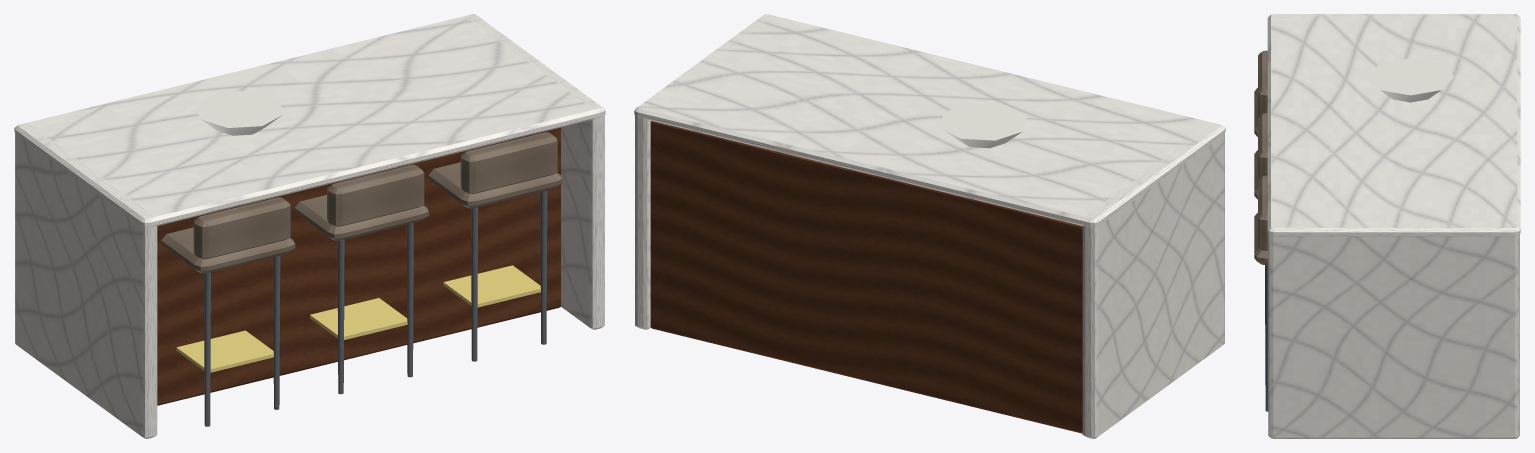
File: kitchen_island_bar.glb
3 views of the same model, side by side, from view 1: azimuth 30°, elevation 25°; view 2: azimuth 150°, elevation 25°; view 3: azimuth 270°, elevation 25° (orthographic). The views are drawn at different scales.
Visible parts, largest first — view 1: kitchen_island_bar_marbleCarrara, kitchen_island_bar_woodWalnut, kitchen_island_bar_fabricVelvet, kitchen_island_bar_metalBrass, kitchen_island_bar_metalBlack, kitchen_island_bar_ceramicVase; view 2: kitchen_island_bar_marbleCarrara, kitchen_island_bar_woodWalnut, kitchen_island_bar_ceramicVase; view 3: kitchen_island_bar_marbleCarrara, kitchen_island_bar_fabricVelvet, kitchen_island_bar_ceramicVase, kitchen_island_bar_metalBlack.
Boxes of the visible parts, bbox=[...] form: kitchen_island_bar_marbleCarrara: bbox=[14, 14, 605, 438]; kitchen_island_bar_woodWalnut: bbox=[157, 127, 560, 405]; kitchen_island_bar_fabricVelvet: bbox=[161, 132, 562, 273]; kitchen_island_bar_metalBrass: bbox=[176, 265, 540, 372]; kitchen_island_bar_metalBlack: bbox=[204, 190, 547, 426]; kitchen_island_bar_ceramicVase: bbox=[195, 90, 283, 135]; kitchen_island_bar_marbleCarrara: bbox=[634, 14, 1225, 438]; kitchen_island_bar_woodWalnut: bbox=[650, 121, 1082, 433]; kitchen_island_bar_ceramicVase: bbox=[939, 103, 1027, 148]; kitchen_island_bar_marbleCarrara: bbox=[1267, 14, 1520, 438]; kitchen_island_bar_fabricVelvet: bbox=[1254, 50, 1268, 265]; kitchen_island_bar_ceramicVase: bbox=[1367, 58, 1453, 102]; kitchen_island_bar_metalBlack: bbox=[1265, 265, 1268, 411].
Size of what is drawn, in the model's own units: 1.85 by 0.9 by 0.96.
Materials: 6 (3 with a texture image).
